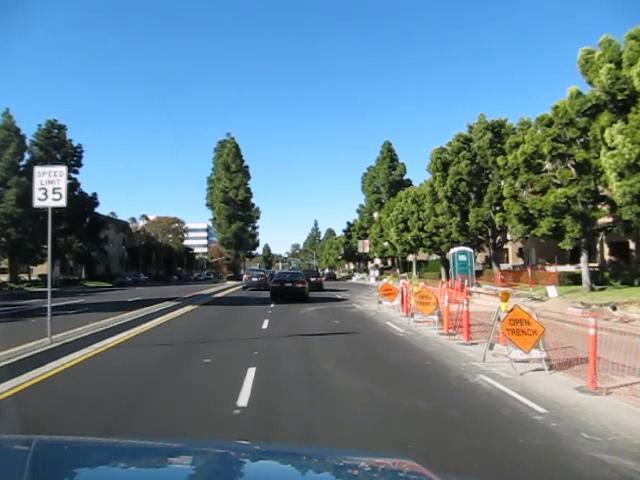speedLimit35: (32, 164, 68, 207)
